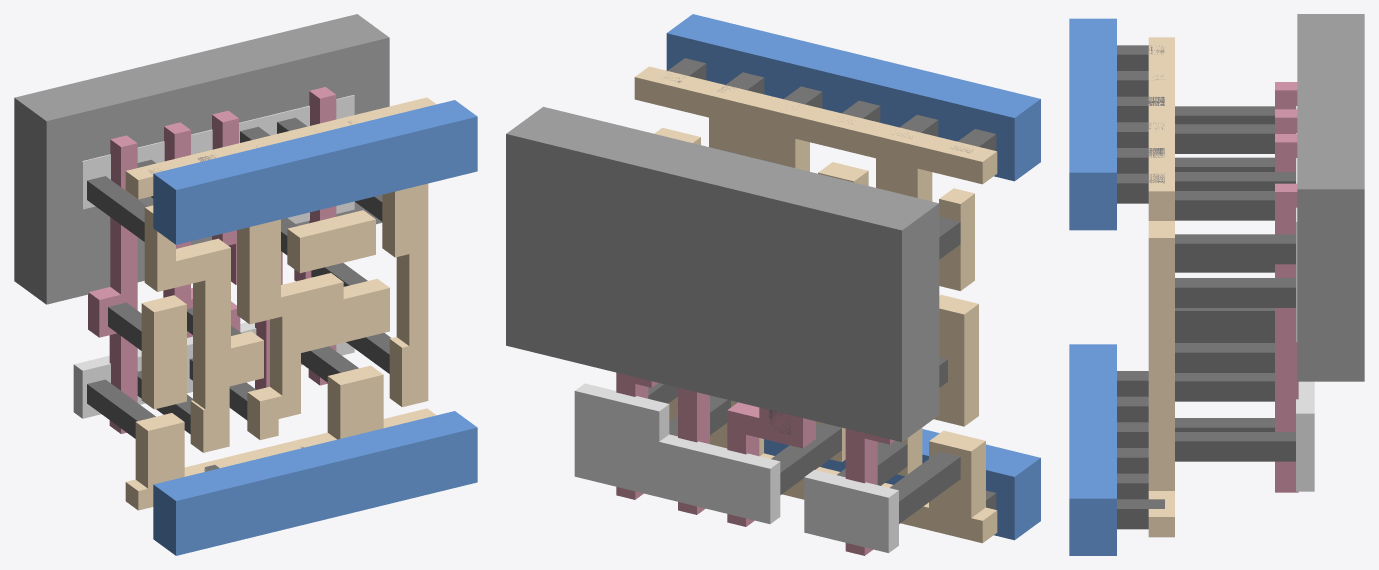
The model's file is sky130_fd_sc_hd__and2b_1.gds.gltf.
The picture shows the model from 3 angles, left to right: view 1: azimuth 30°, elevation 25°; view 2: azimuth 150°, elevation 25°; view 3: azimuth 270°, elevation 25°; orthographic projection. The views are drawn at different scales.
Visible parts, largest first — view 1: sky130_fd_sc_hd__and2b_1_li1, sky130_fd_sc_hd__and2b_1_met1, sky130_fd_sc_hd__and2b_1_nwell, sky130_fd_sc_hd__and2b_1_poly, sky130_fd_sc_hd__and2b_1_licon, sky130_fd_sc_hd__and2b_1_diff; view 2: sky130_fd_sc_hd__and2b_1_nwell, sky130_fd_sc_hd__and2b_1_li1, sky130_fd_sc_hd__and2b_1_met1, sky130_fd_sc_hd__and2b_1_diff, sky130_fd_sc_hd__and2b_1_licon, sky130_fd_sc_hd__and2b_1_poly, sky130_fd_sc_hd__and2b_1_mcon; view 3: sky130_fd_sc_hd__and2b_1_licon, sky130_fd_sc_hd__and2b_1_nwell, sky130_fd_sc_hd__and2b_1_met1, sky130_fd_sc_hd__and2b_1_li1, sky130_fd_sc_hd__and2b_1_mcon, sky130_fd_sc_hd__and2b_1_poly, sky130_fd_sc_hd__and2b_1_diff.
Boxes of the visible parts, left/top/right/bottom form: sky130_fd_sc_hd__and2b_1_li1: left=125, top=97, right=436, bottom=510; sky130_fd_sc_hd__and2b_1_met1: left=153, top=100, right=477, bottom=555; sky130_fd_sc_hd__and2b_1_nwell: left=14, top=14, right=389, bottom=304; sky130_fd_sc_hd__and2b_1_poly: left=88, top=87, right=336, bottom=433; sky130_fd_sc_hd__and2b_1_licon: left=87, top=117, right=390, bottom=438; sky130_fd_sc_hd__and2b_1_diff: left=73, top=95, right=354, bottom=418; sky130_fd_sc_hd__and2b_1_nwell: left=506, top=106, right=939, bottom=441; sky130_fd_sc_hd__and2b_1_li1: left=634, top=66, right=997, bottom=543; sky130_fd_sc_hd__and2b_1_met1: left=666, top=14, right=1040, bottom=540; sky130_fd_sc_hd__and2b_1_diff: left=574, top=383, right=898, bottom=553; sky130_fd_sc_hd__and2b_1_licon: left=648, top=149, right=960, bottom=523; sky130_fd_sc_hd__and2b_1_poly: left=616, top=372, right=894, bottom=555; sky130_fd_sc_hd__and2b_1_mcon: left=662, top=58, right=996, bottom=509; sky130_fd_sc_hd__and2b_1_licon: left=1175, top=106, right=1295, bottom=461; sky130_fd_sc_hd__and2b_1_nwell: left=1297, top=14, right=1364, bottom=381; sky130_fd_sc_hd__and2b_1_met1: left=1069, top=18, right=1116, bottom=555; sky130_fd_sc_hd__and2b_1_li1: left=1148, top=37, right=1174, bottom=537; sky130_fd_sc_hd__and2b_1_mcon: left=1117, top=45, right=1164, bottom=529; sky130_fd_sc_hd__and2b_1_poly: left=1275, top=82, right=1298, bottom=492; sky130_fd_sc_hd__and2b_1_diff: left=1296, top=106, right=1314, bottom=491.
Bounding box in the file's own units: 3.14 × 3.2 × 2.24.
